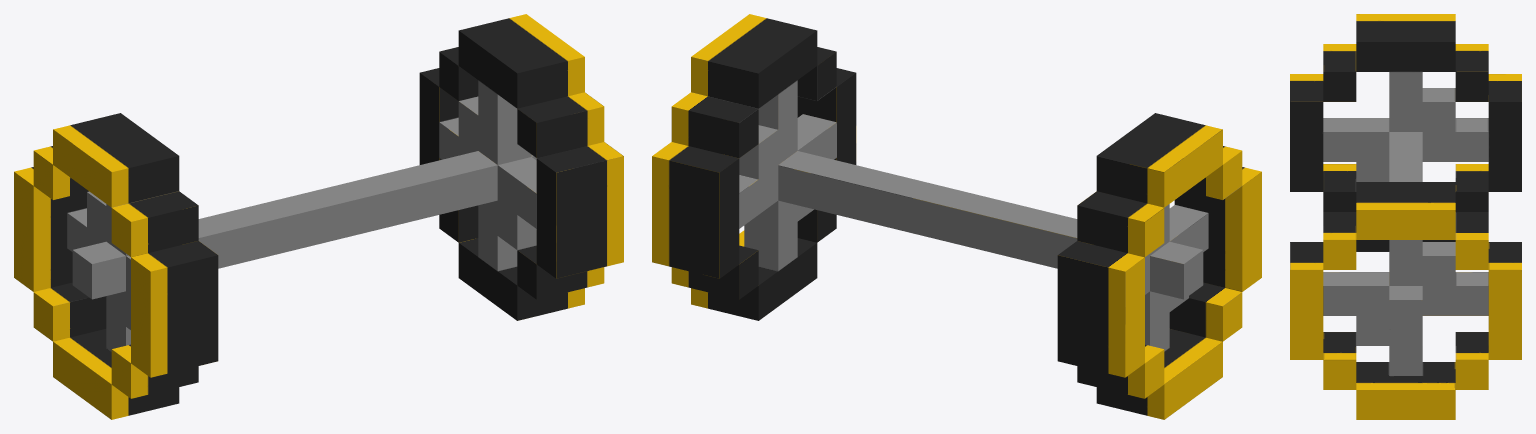
The model's file is Tractor_1_Rim_2.obj.
The picture shows the model from 3 angles, left to right: view 1: azimuth 30°, elevation 25°; view 2: azimuth 150°, elevation 25°; view 3: azimuth 270°, elevation 25°; orthographic projection. The views are drawn at different scales.
Visible parts, largest first — view 1: Tractor_1_Rim_2_Tractor_1_Rim_2.001; view 2: Tractor_1_Rim_2_Tractor_1_Rim_2.001; view 3: Tractor_1_Rim_2_Tractor_1_Rim_2.001.
Boxes of the visible parts, x1=… form: Tractor_1_Rim_2_Tractor_1_Rim_2.001: x1=14, y1=14, x2=623, y2=419; Tractor_1_Rim_2_Tractor_1_Rim_2.001: x1=652, y1=14, x2=1261, y2=419; Tractor_1_Rim_2_Tractor_1_Rim_2.001: x1=1290, y1=14, x2=1521, y2=419.
Size of the model in its own units: 2.8 by 1.4 by 1.4.
